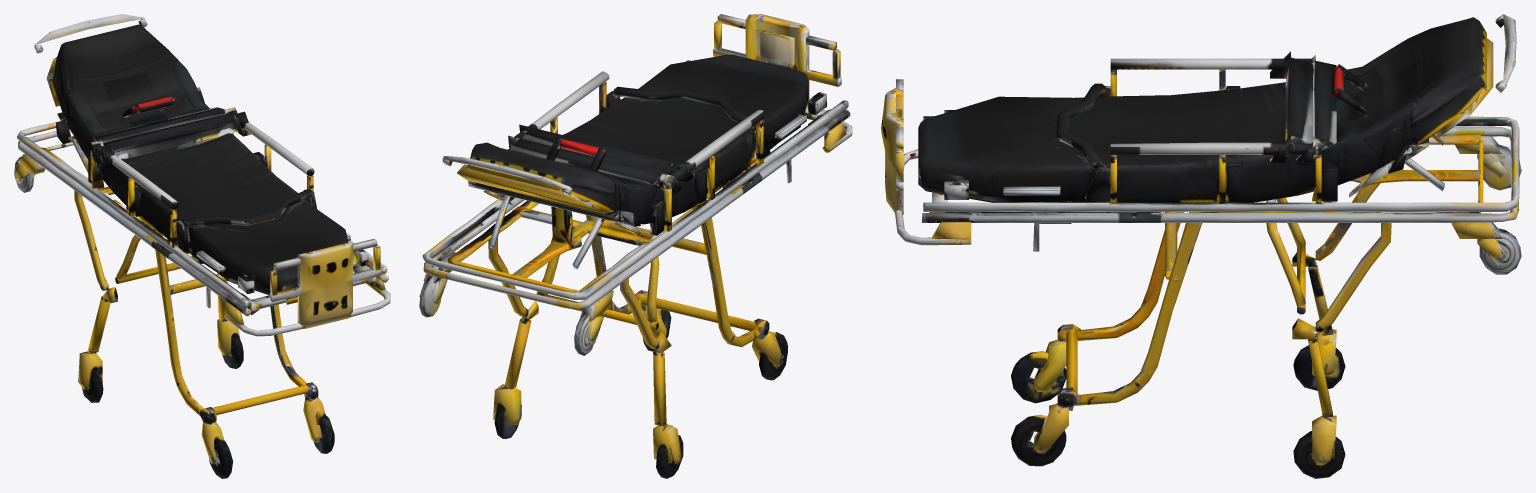
File: strecher2.fbx
3 renders of one model, left to right at view 1: azimuth 30°, elevation 25°; view 2: azimuth 150°, elevation 25°; view 3: azimuth 270°, elevation 25°, orthographic. The views are drawn at different scales.
Parts seen in each view (by area): view 1: tripo_node_4b06a54c; view 2: tripo_node_4b06a54c; view 3: tripo_node_4b06a54c.
Boxes of the visible parts, <box> form: tripo_node_4b06a54c: <box>14,14,390,478</box>; tripo_node_4b06a54c: <box>419,14,852,478</box>; tripo_node_4b06a54c: <box>881,14,1521,478</box>.
Bounding box in the file's own units: 34.69 × 64.3 × 94.27.
Materials: 1 (1 with a texture image).
